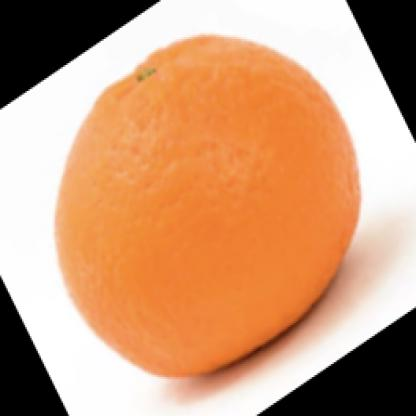orange: (52, 33, 364, 378)
